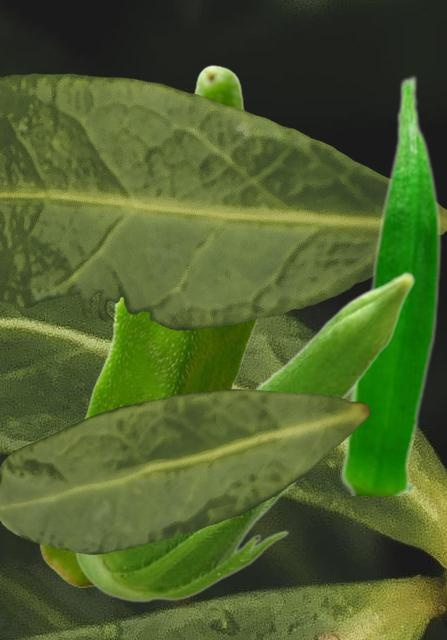okra: (39, 64, 258, 586), (73, 271, 415, 602), (340, 74, 442, 494)
